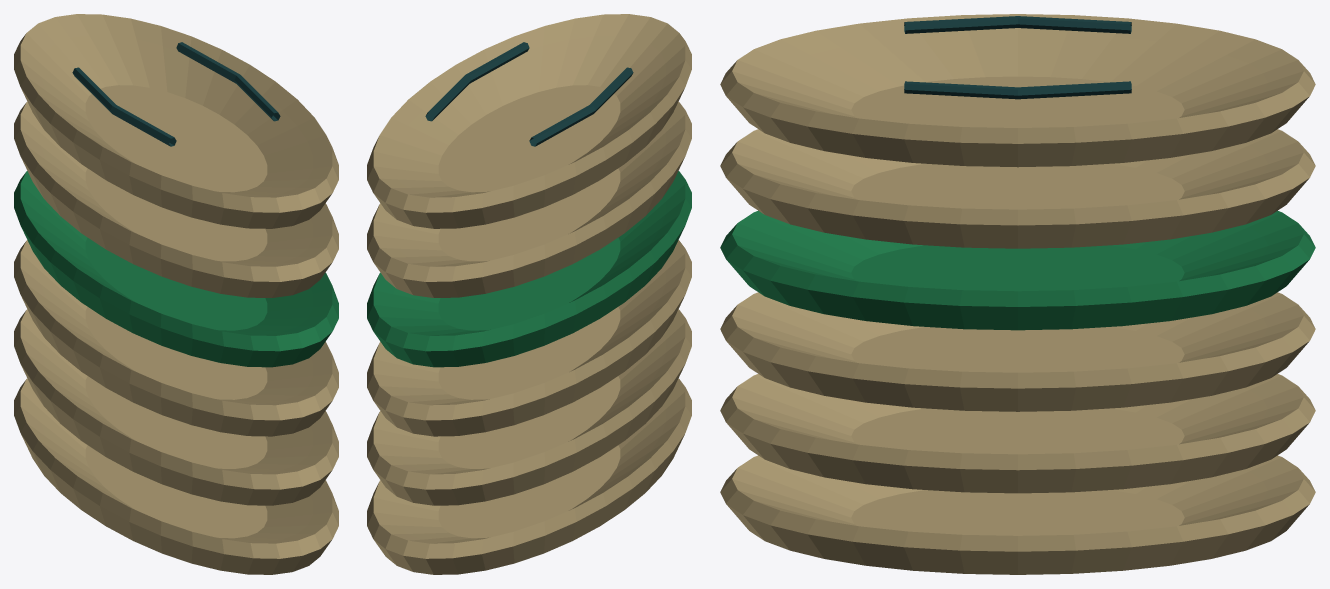
The model's file is panel_dish_stack.fbx.
3 renders of one model, left to right at view 1: azimuth 30°, elevation 25°; view 2: azimuth 150°, elevation 25°; view 3: azimuth 270°, elevation 25°, orthographic. The views are drawn at different scales.
Parts seen in each view (by area): view 1: Part_0; view 2: Part_0; view 3: Part_0.
Part boxes in pixels (left/top/right/bottom): Part_0: left=14, top=14, right=338, bottom=574; Part_0: left=367, top=14, right=691, bottom=574; Part_0: left=720, top=14, right=1315, bottom=574.
Bounding box in the file's own units: 1.7 × 3.2 × 3.6.
